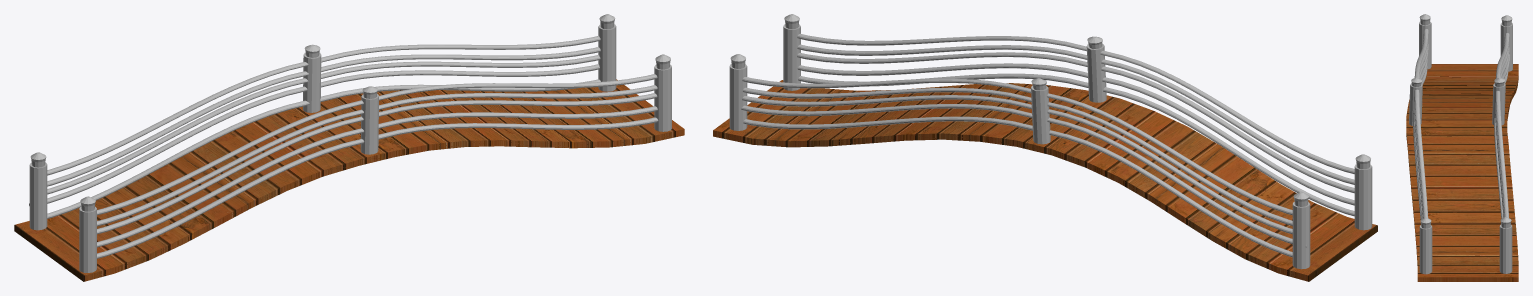
The model's file is env_bridge.fbx.
3 renders of one model, left to right at view 1: azimuth 30°, elevation 25°; view 2: azimuth 150°, elevation 25°; view 3: azimuth 270°, elevation 25°, orthographic. The views are drawn at different scales.
Visible parts, largest first — view 1: env_bridge; view 2: env_bridge; view 3: env_bridge.
Boxes of the visible parts, box(x1,y1,x2,y2) form: env_bridge: box(14, 14, 684, 281); env_bridge: box(713, 14, 1377, 281); env_bridge: box(1406, 14, 1518, 281).
Bounding box in the file's own units: 4916 × 983 × 1096.
